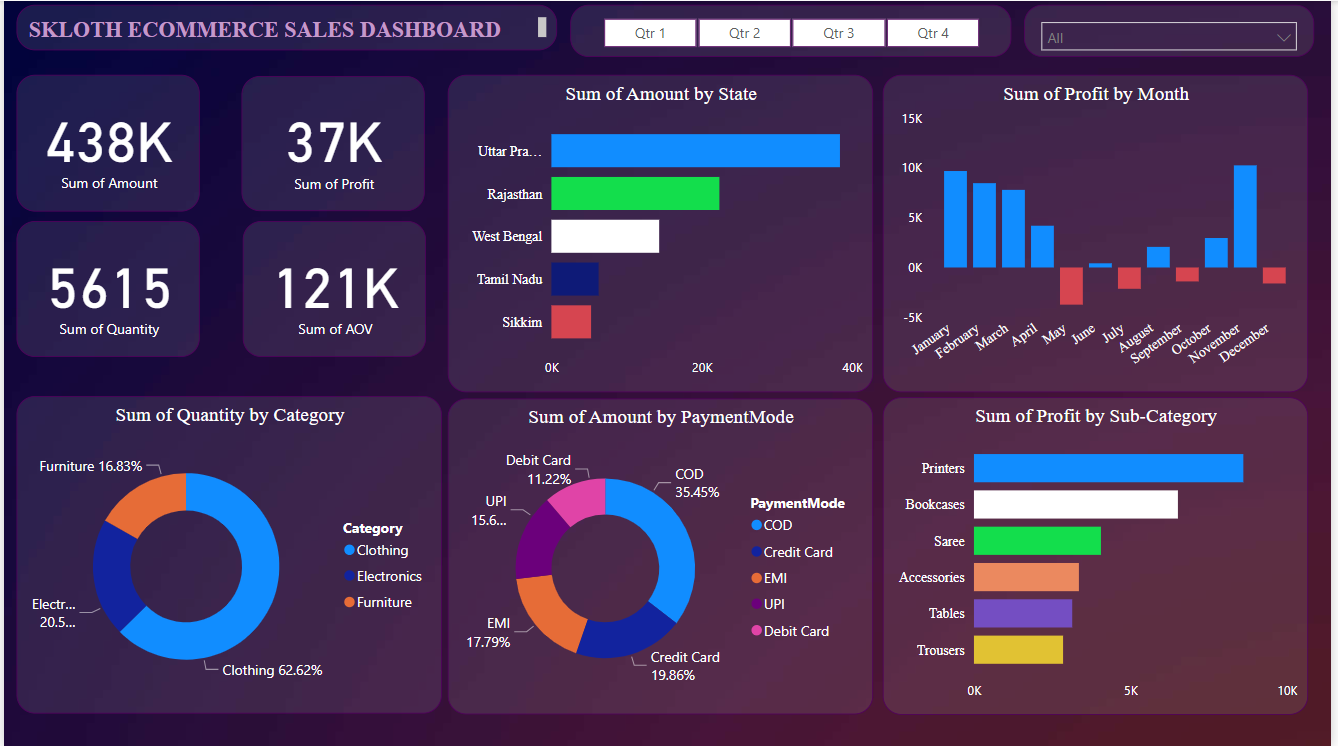

The dashboard page shown, as its layout file describes it:
{"tool":"powerbi","page":{"name":"Page 1","canvas":[1280,720],"ordinal":0},"visuals":[{"type":"textbox","box":[12.3,4.1,521.4,43.9],"z":0},{"type":"columnChart","fields":{"Y":["Sum(Details.Profit)"],"Category":["Orders.Order Date.Variation.Date Hierarchy.Month"]},"box":[848,71.4,410.3,306],"z":1000},{"type":"barChart","fields":{"Y":["Sum(Details.Profit)"],"Category":["Details.Sub-Category"]},"box":[848,382.8,410,306],"z":2000},{"type":"donutChart","fields":{"Y":["Sum(Details.Quantity)"],"Category":["Details.Category"]},"box":[12.3,381.5,410.3,306],"z":3000},{"type":"donutChart","fields":{"Y":["Sum(Details.Amount)"],"Category":["Details.PaymentMode"]},"box":[428.1,383.5,410,305],"z":4000},{"type":"barChart","fields":{"Category":["Orders.State"],"Y":["Sum(Details.Amount)"]},"box":[428.1,71.4,410.3,306],"z":5000},{"type":"card","fields":{"Values":["Sum(Details.Amount)"]},"box":[12.3,71.4,177,131.7],"z":6000},{"type":"card","fields":{"Values":["Sum(Details.Profit)"]},"box":[229.2,72.7,177,130.4],"z":7000},{"type":"card","fields":{"Values":["Sum(Details.Quantity)"]},"box":[12.3,212.7,177,131],"z":8000},{"type":"card","fields":{"Values":["Sum(Details.AOV)"]},"box":[230.5,212.7,177,131],"z":9000},{"type":"slicer","fields":{"Values":["Orders.Order Date.Variation.Date Hierarchy.Quarter"]},"box":[546.1,4.1,425.4,50.8],"z":10000},{"type":"slicer","fields":{"Values":["Orders.State"]},"box":[983.9,4.1,279.9,50.8],"z":11000}]}

Visuals, with their boxes in screenshot pixels (x1, y1, x2, y2), scaled from the page's 1280x720 canvas onto the 1338x746 screenshot:
textbox: 13, 4, 558, 50
columnChart - Sum(Details.Profit) x Orders.Order Date.Variation.Date Hierarchy.Month: 886, 74, 1315, 391
barChart - Sum(Details.Profit) x Details.Sub-Category: 886, 397, 1315, 714
donutChart - Sum(Details.Quantity) x Details.Category: 13, 395, 442, 712
donutChart - Sum(Details.Amount) x Details.PaymentMode: 447, 397, 876, 713
barChart - Orders.State x Sum(Details.Amount): 447, 74, 876, 391
card - Sum(Details.Amount): 13, 74, 198, 210
card - Sum(Details.Profit): 240, 75, 425, 210
card - Sum(Details.Quantity): 13, 220, 198, 356
card - Sum(Details.AOV): 241, 220, 426, 356
slicer - Orders.Order Date.Variation.Date Hierarchy.Quarter: 571, 4, 1016, 57
slicer - Orders.State: 1028, 4, 1321, 57
